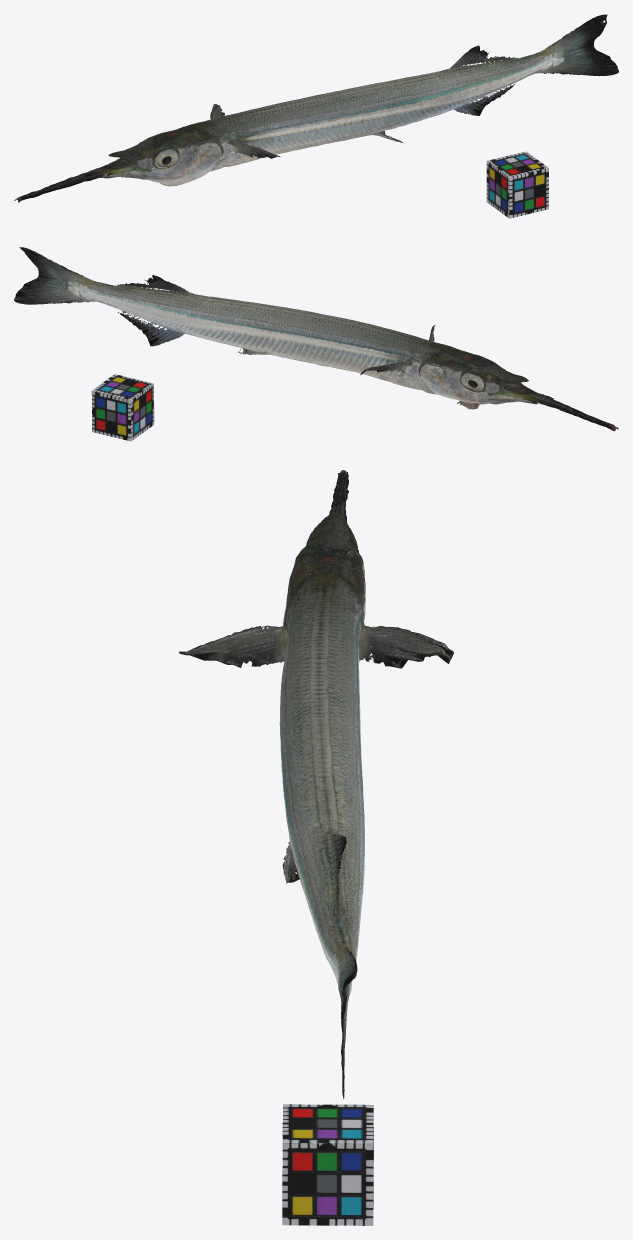
Rendered from sayori-126c1d093ee7.glb.
The picture shows the model from 3 angles, top to bottom: view 1: azimuth 30°, elevation 25°; view 2: azimuth 150°, elevation 25°; view 3: azimuth 270°, elevation 25°; orthographic projection. The views are drawn at different scales.
Parts seen in each view (by area): view 1: hire_5, Cube_2; view 2: hire_5, Cube_2; view 3: hire_5, Cube_2.
Part boxes in pixels (left/top/right/bottom): hire_5: left=14, top=14, right=618, bottom=202; Cube_2: left=486, top=151, right=548, bottom=218; hire_5: left=14, top=247, right=618, bottom=431; Cube_2: left=91, top=374, right=154, bottom=441; hire_5: left=179, top=470, right=453, bottom=1098; Cube_2: left=282, top=1104, right=373, bottom=1225.
Bounding box in the file's own units: 9.12 × 2.39 × 1.8.
3 materials, 3 textured.
